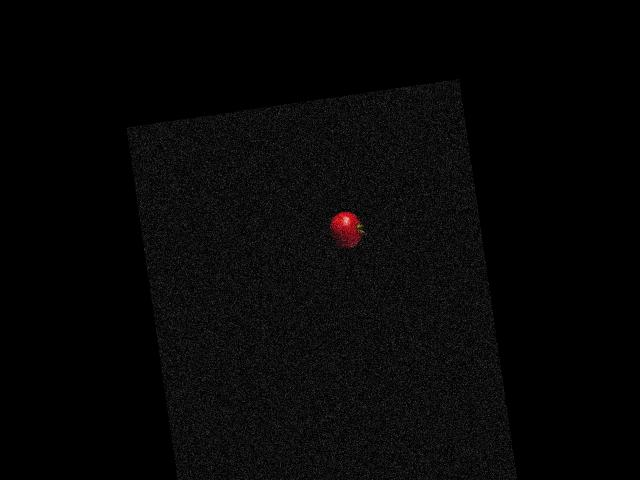tomato: (328, 210, 364, 250)
